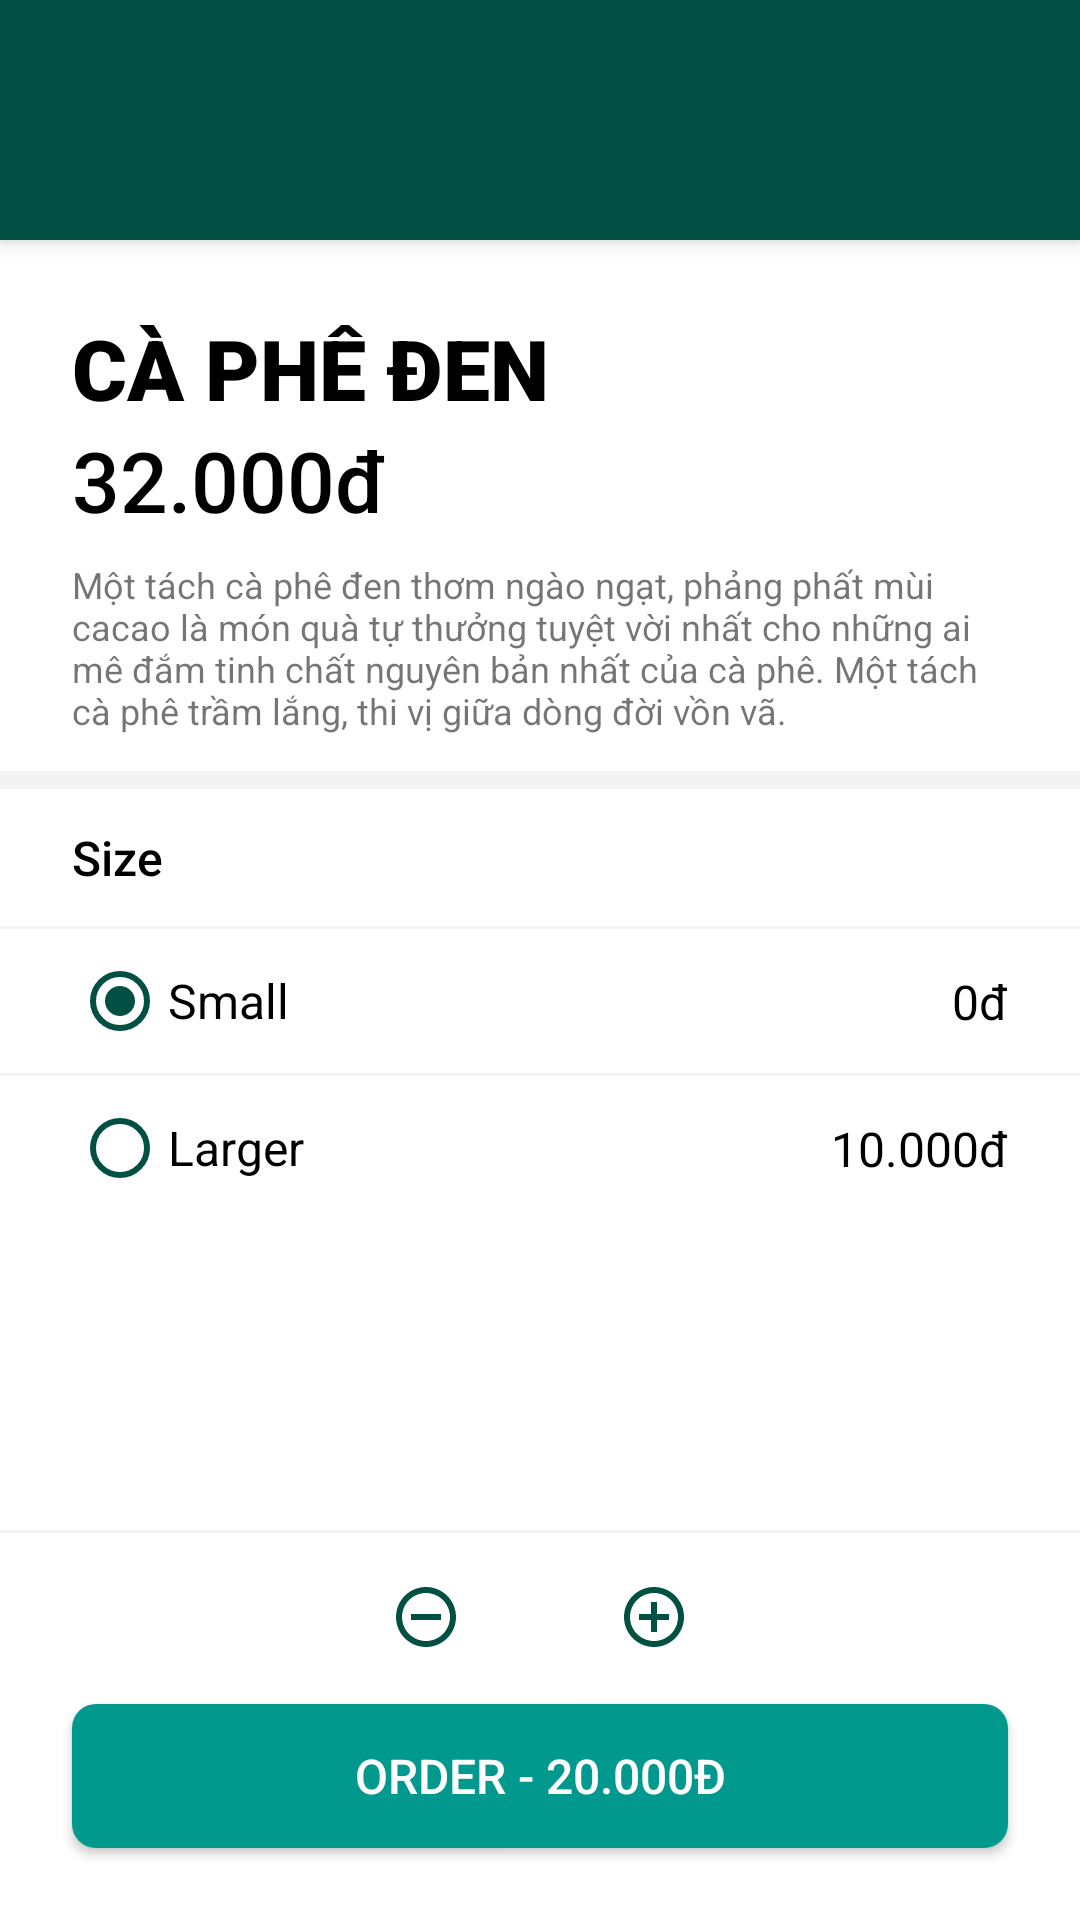

Point at icon controls on the screen. Image size 1080px x 1920px, points as point (x, y).
add: point (654, 1617)
remove: point (426, 1617)
